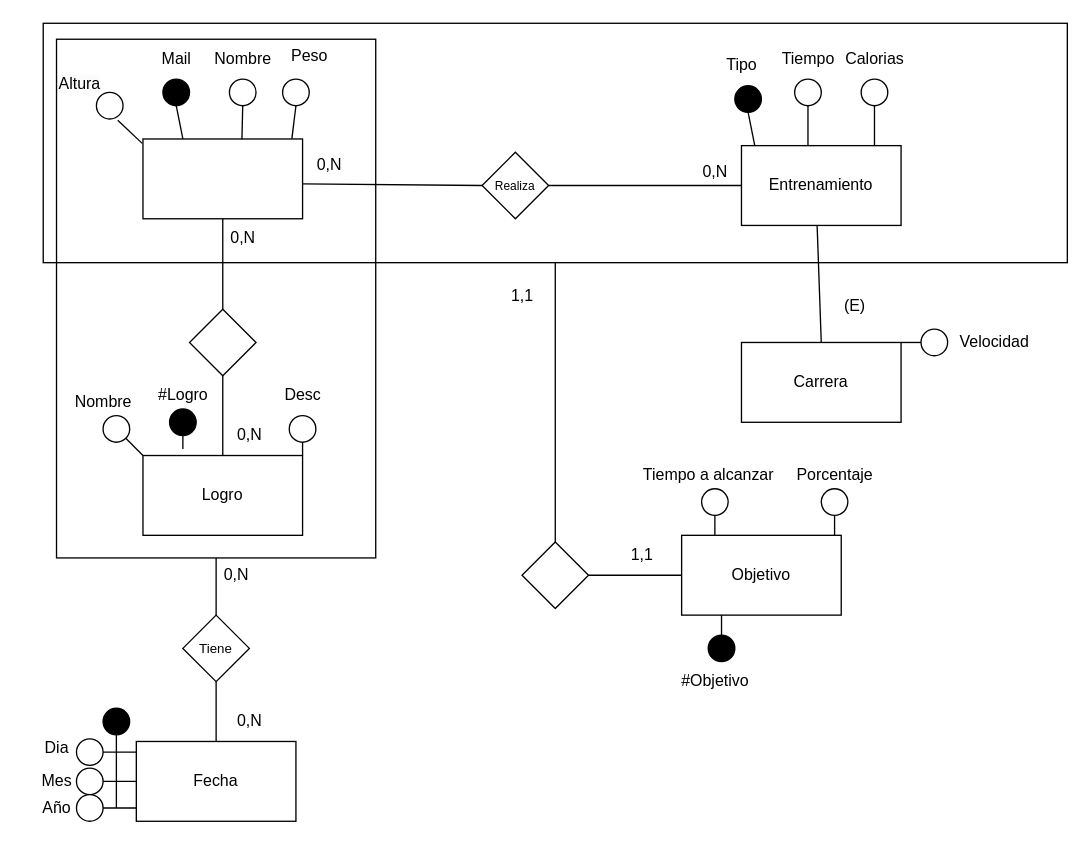
Some shapes in this 1091 by 851 pixel diagram are drawn without their labels. Here are the shapes that lost their labels. From the top down, the centre of each, then its label:
pixel 222 178: Usuario
pixel 222 342: Obtiene
pixel 555 574: Define
